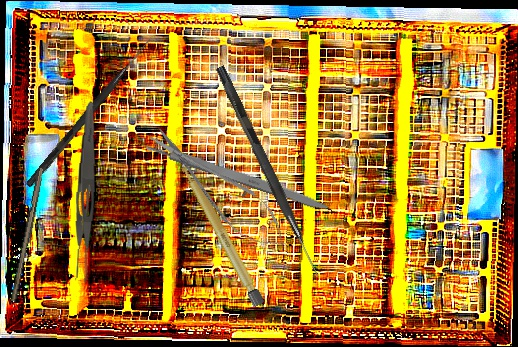Dressing Forceps: (71, 100, 98, 284)
Hook Surgical: (212, 65, 326, 279), (25, 35, 153, 190)
Micro Scissor: (138, 114, 299, 263)
Scalpel Handle: (144, 138, 335, 215), (177, 157, 266, 308), (10, 167, 46, 303)
